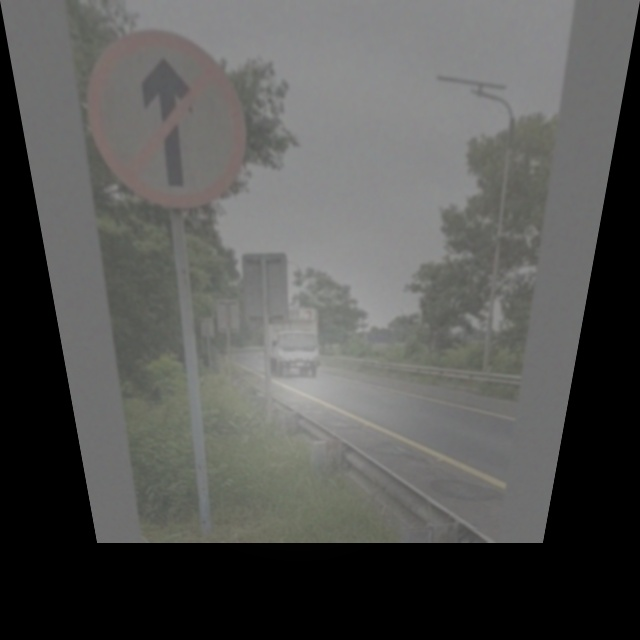No_Entry: (79, 32, 250, 204)
